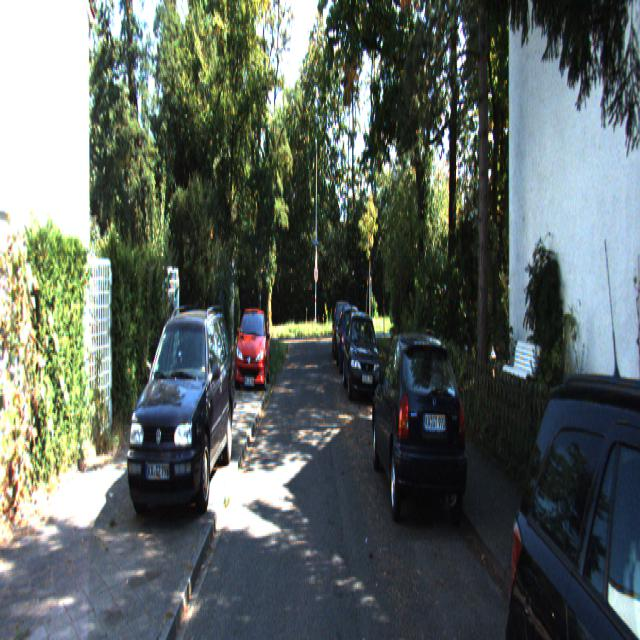Car: (504, 345, 640, 638), (125, 308, 236, 532), (370, 324, 467, 528), (342, 304, 381, 398), (233, 299, 270, 390), (337, 300, 365, 369)
